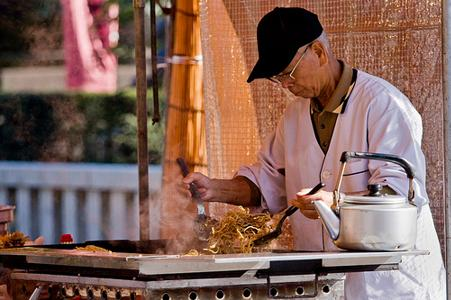person: (185, 8, 450, 300)
